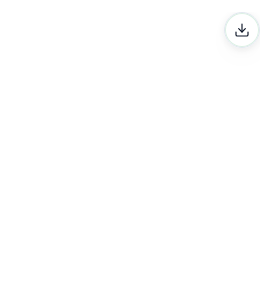
Test case: DownloadMenu › disables analytics exports for context-only sources
The image size is (272, 300).
Click the button with test id "download-menu-toggle" at (242, 30), box [224, 12, 260, 48]
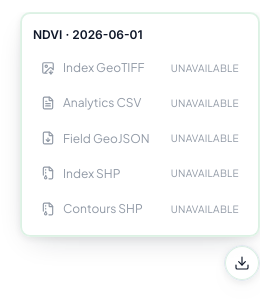
Expected: the button with test id "download-analytics-csv" is disabled, [33, 87, 247, 119]
Expected: the button with test id "download-field-geojson" is disabled, [33, 123, 247, 154]
